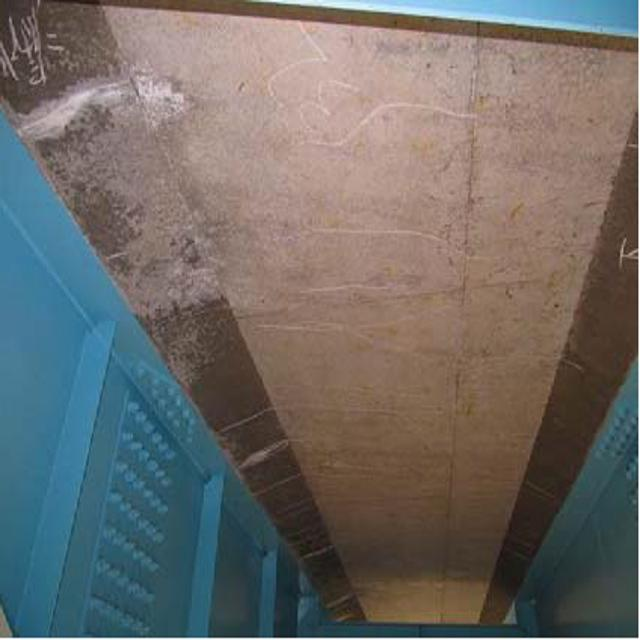freelime: (20, 60, 184, 157)
